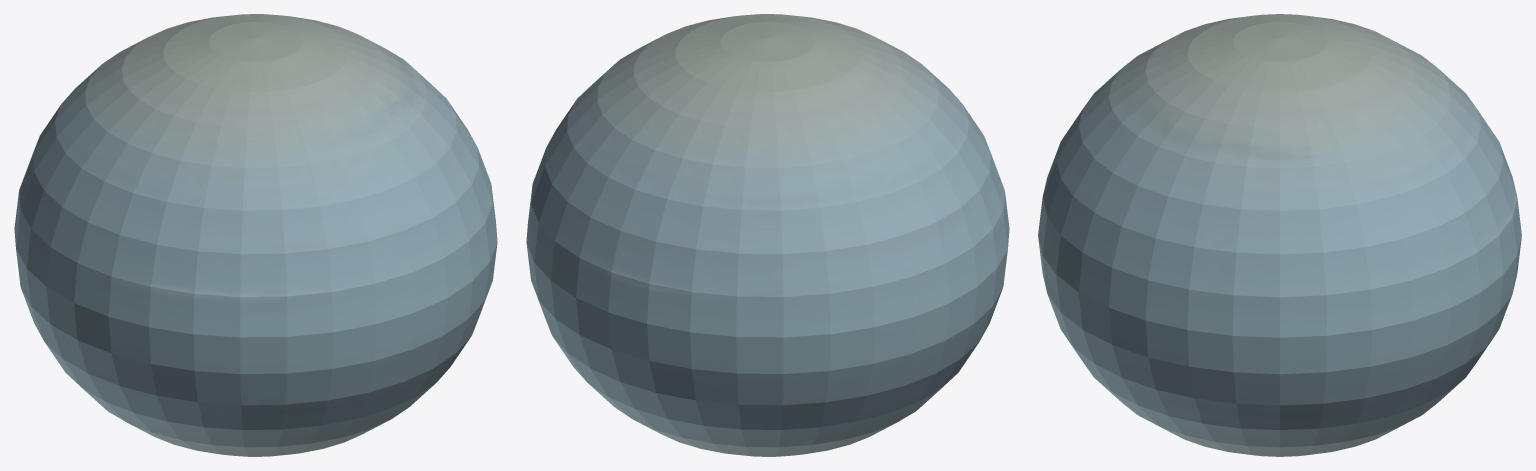
File: uranus.obj
3 views of the same model, side by side, from view 1: azimuth 30°, elevation 25°; view 2: azimuth 150°, elevation 25°; view 3: azimuth 270°, elevation 25° (orthographic).
Visible parts, largest first — view 1: Mesh.001_Mesh_Sphere.001; view 2: Mesh.001_Mesh_Sphere.001; view 3: Mesh.001_Mesh_Sphere.001.
Boxes of the visible parts, bbox=[...] form: Mesh.001_Mesh_Sphere.001: bbox=[14, 14, 497, 456]; Mesh.001_Mesh_Sphere.001: bbox=[526, 14, 1009, 456]; Mesh.001_Mesh_Sphere.001: bbox=[1038, 14, 1521, 456].
Bounding box in the file's own units: 2 × 1.8 × 2.
1 material, 1 textured.
